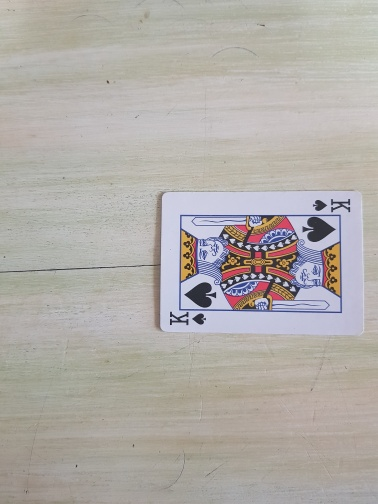king: (159, 190, 365, 338)
